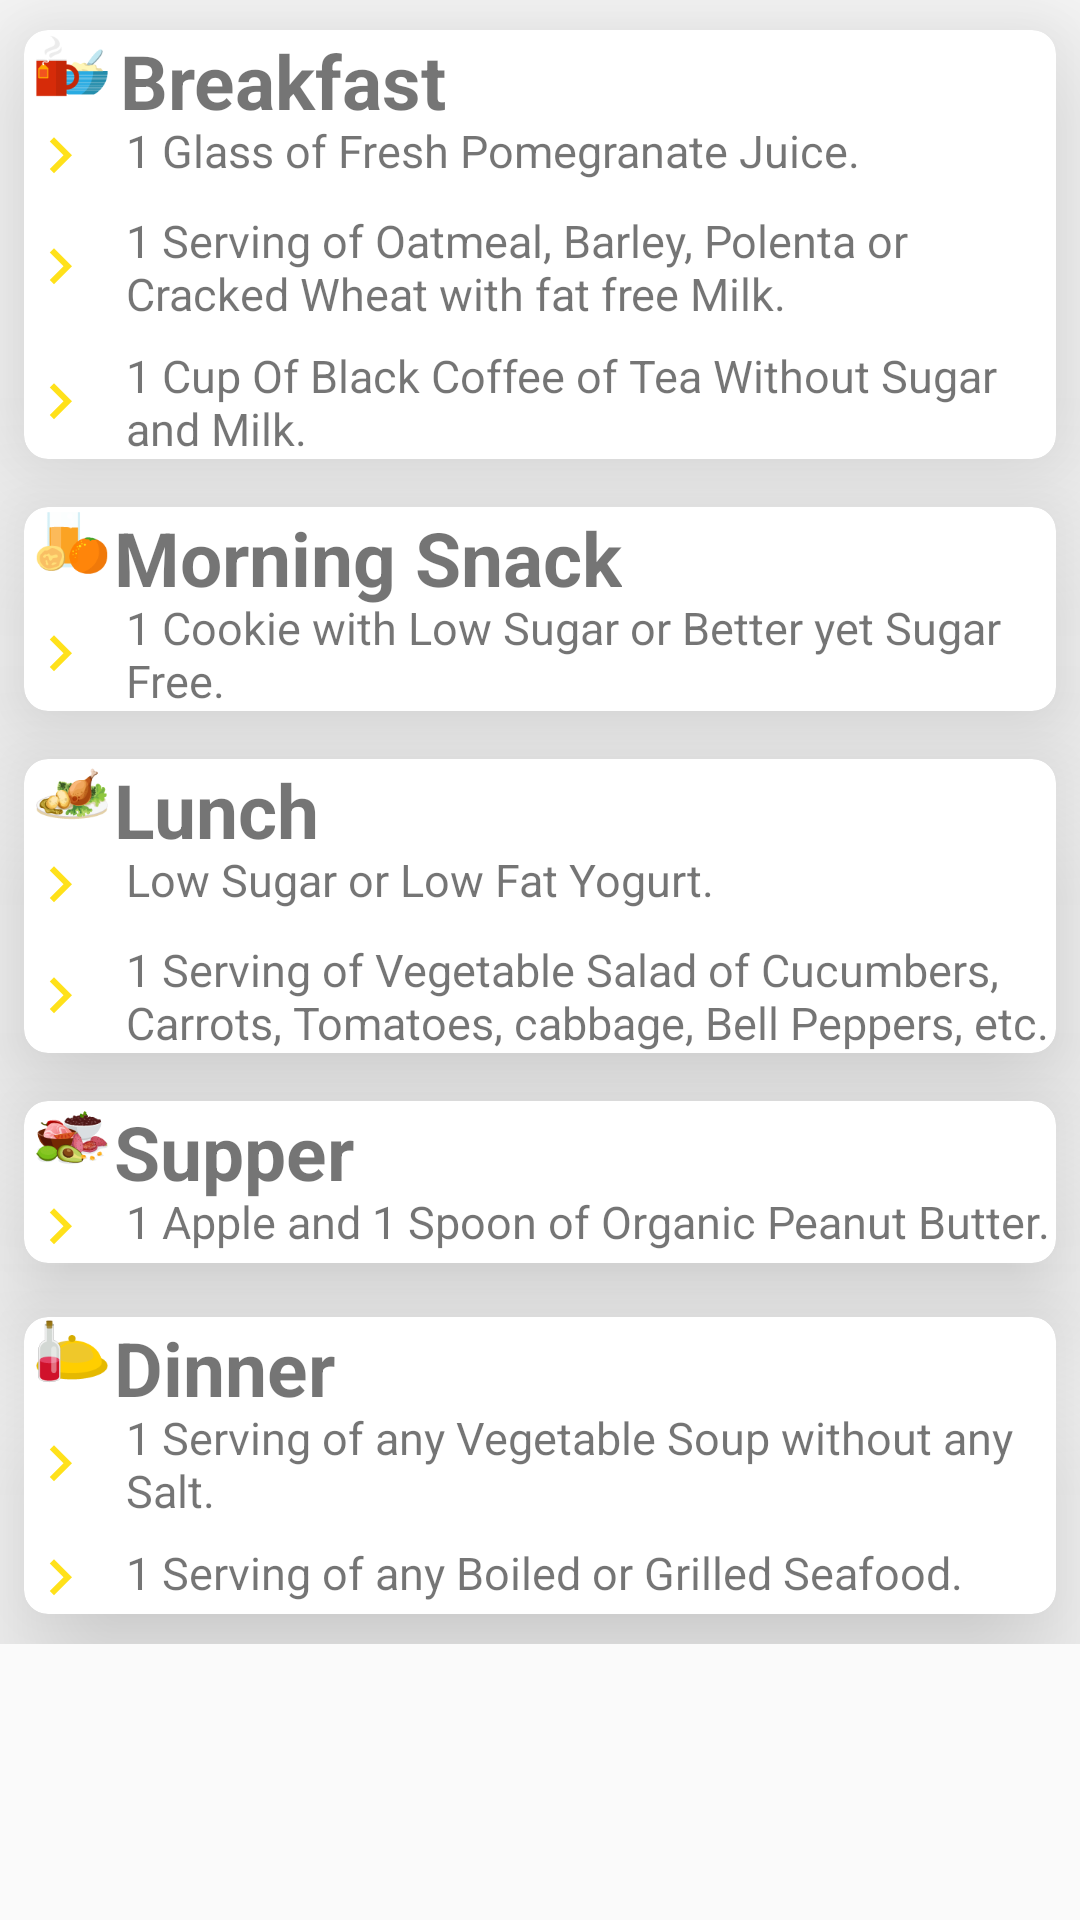

Point at icon controls on the screen. Image size 1080×1920, points as (x,y).
snacks: (72,543)
